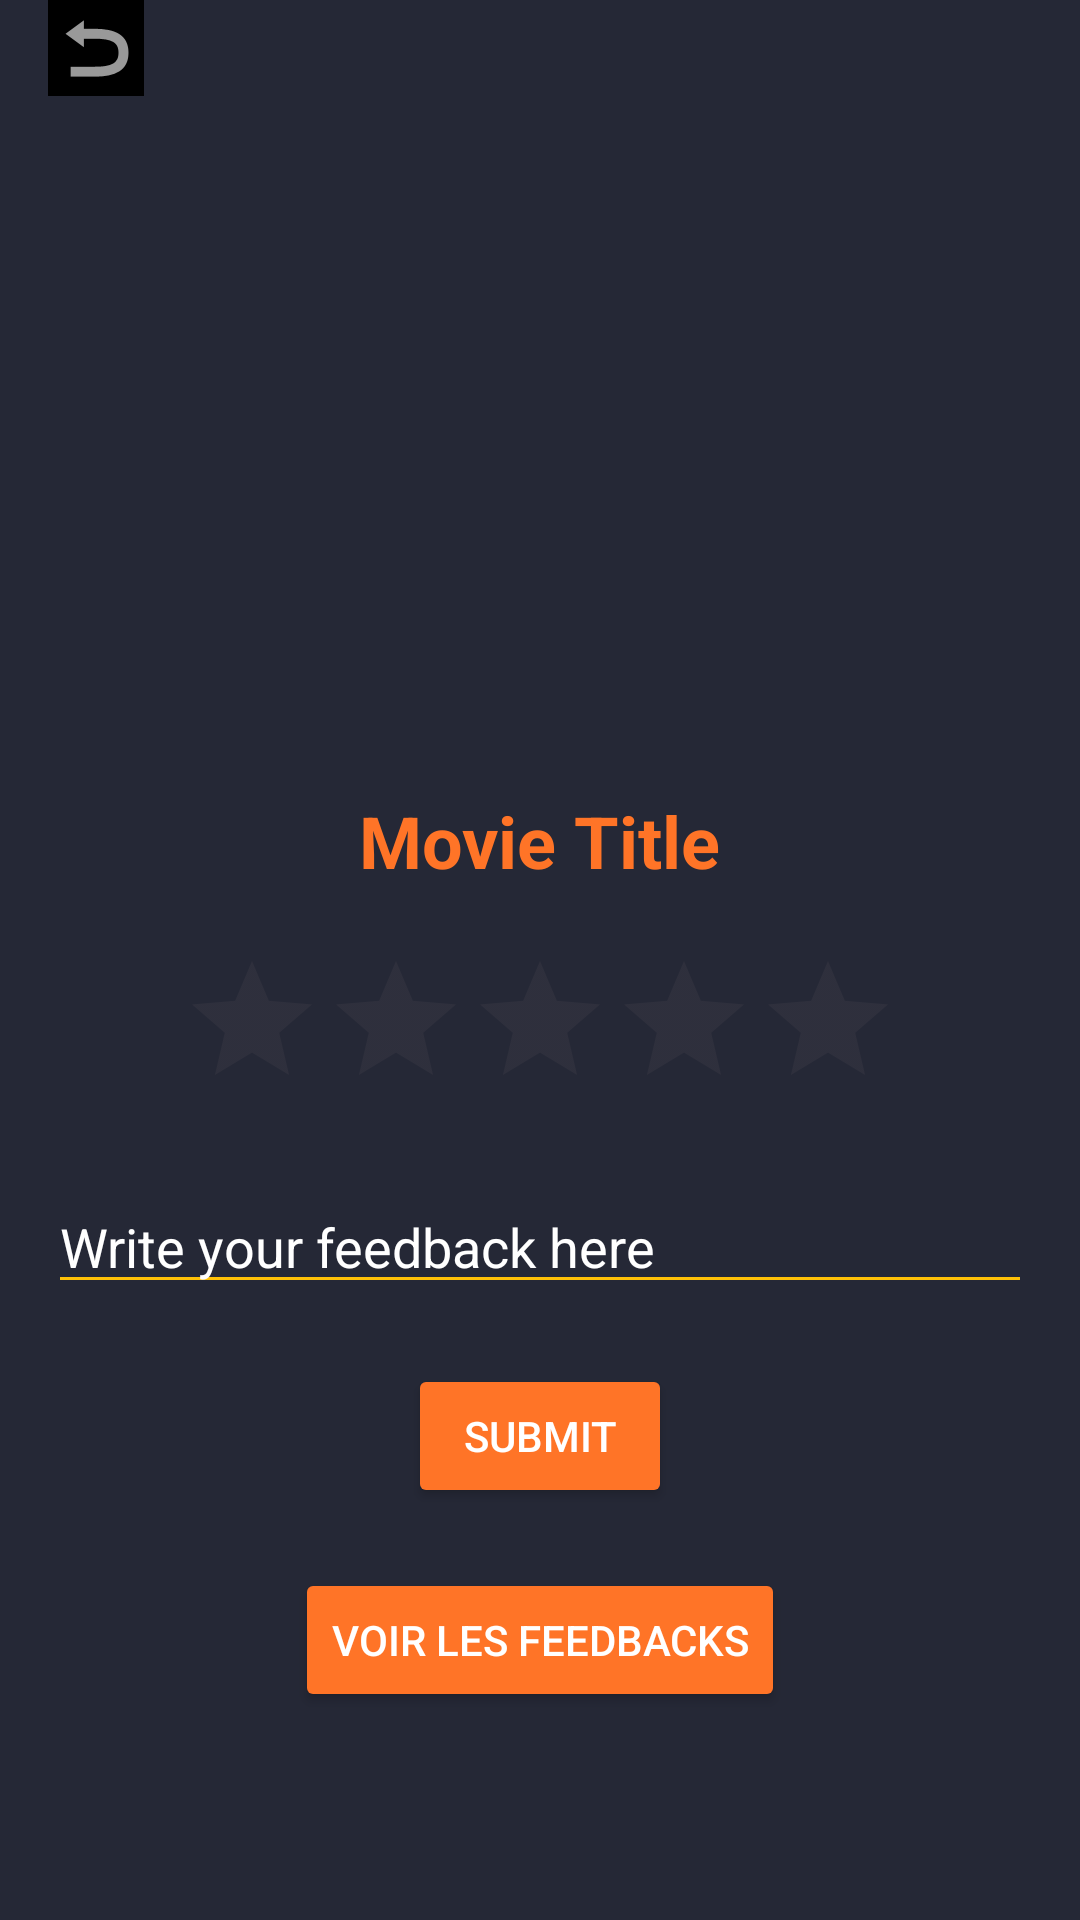

Locate icon controls on the screen. Image size 1080px x 1920px, boxes as (x1, y1, x2, y2).
Retour: (48, 0, 144, 96)
